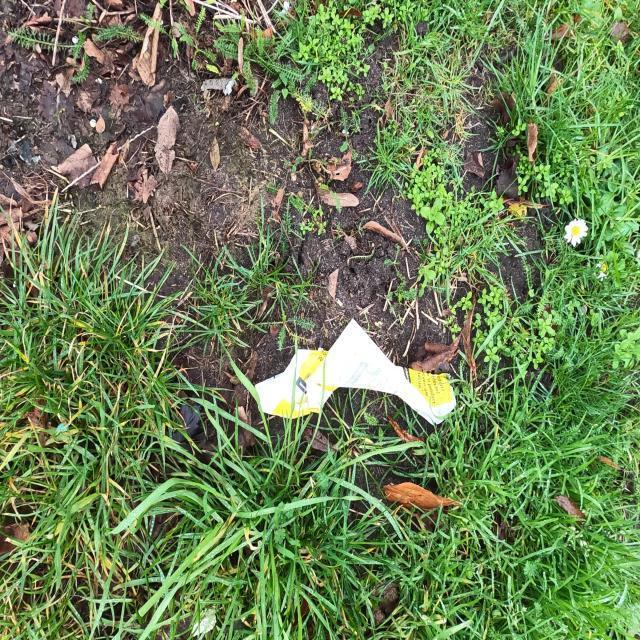Paper: (250, 322, 460, 444)
